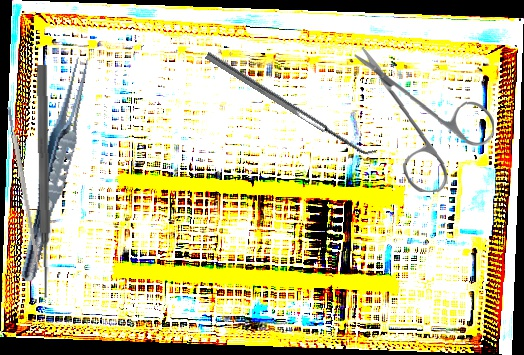Iris Scissors: (350, 46, 497, 195)
Pusher: (33, 64, 54, 299)
Scalpel Handle: (6, 106, 42, 271)
Spatula Surgical: (204, 45, 379, 162)
Tissue Forceps: (14, 50, 97, 286)
